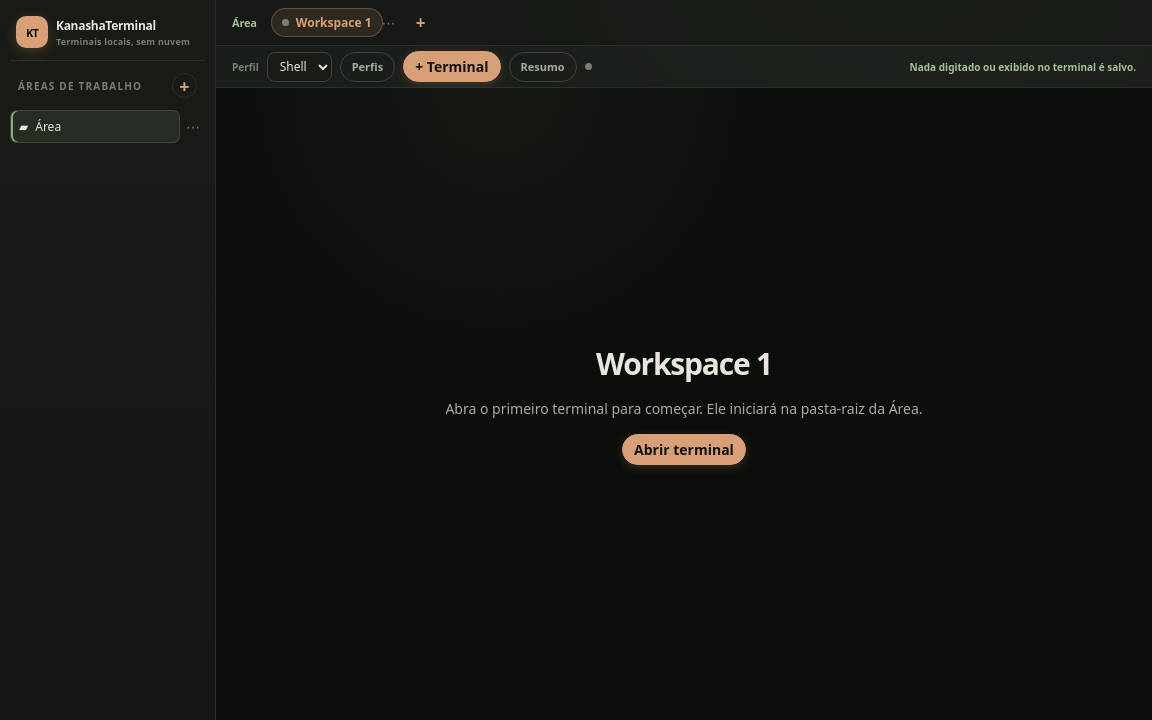
Test: KanashaTerminal › cria um workspace pelo diálogo interno
The width and height of the screenshot is (1152, 720).
Click the button named "Criar novo workspace" at (421, 22), box x1=406 y1=8 x2=436 y2=37
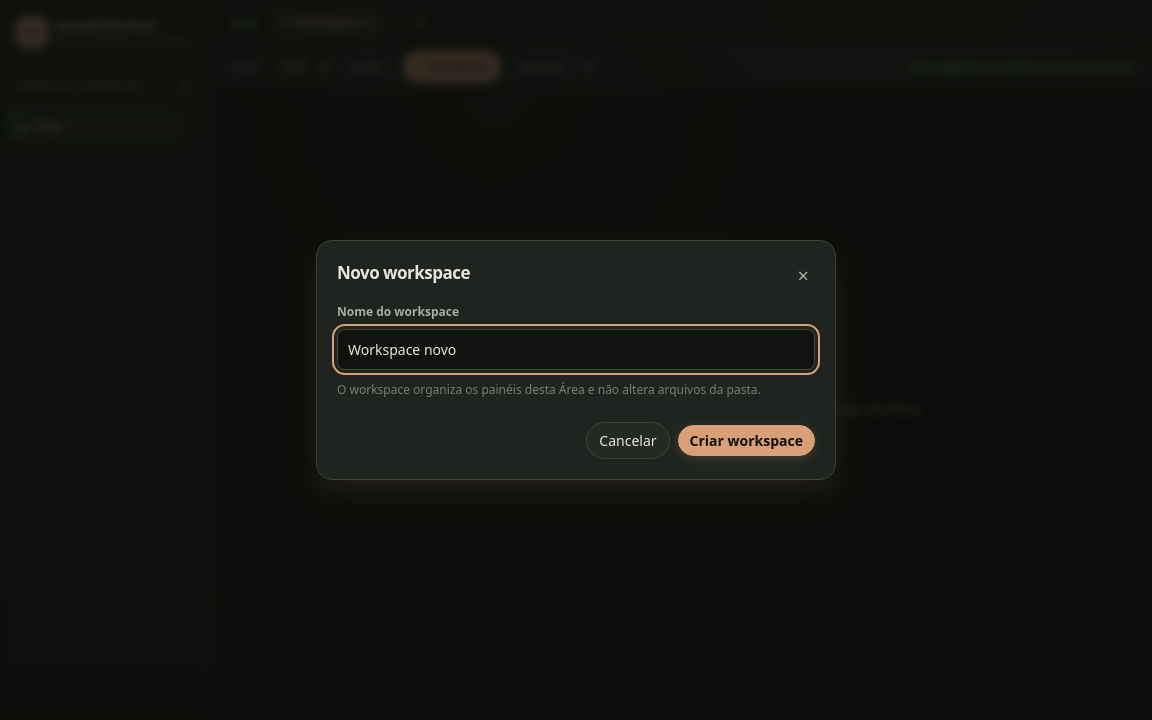
Check: the dialog "Novo workspace" is shown, box x1=316 y1=240 x2=836 y2=480
Check: the field labelled "Nome do workspace" holds "Workspace novo"
Replace the text in the field labelled "Nome do workspace" with "Observabilidade" at (576, 350), box x1=337 y1=329 x2=815 y2=370
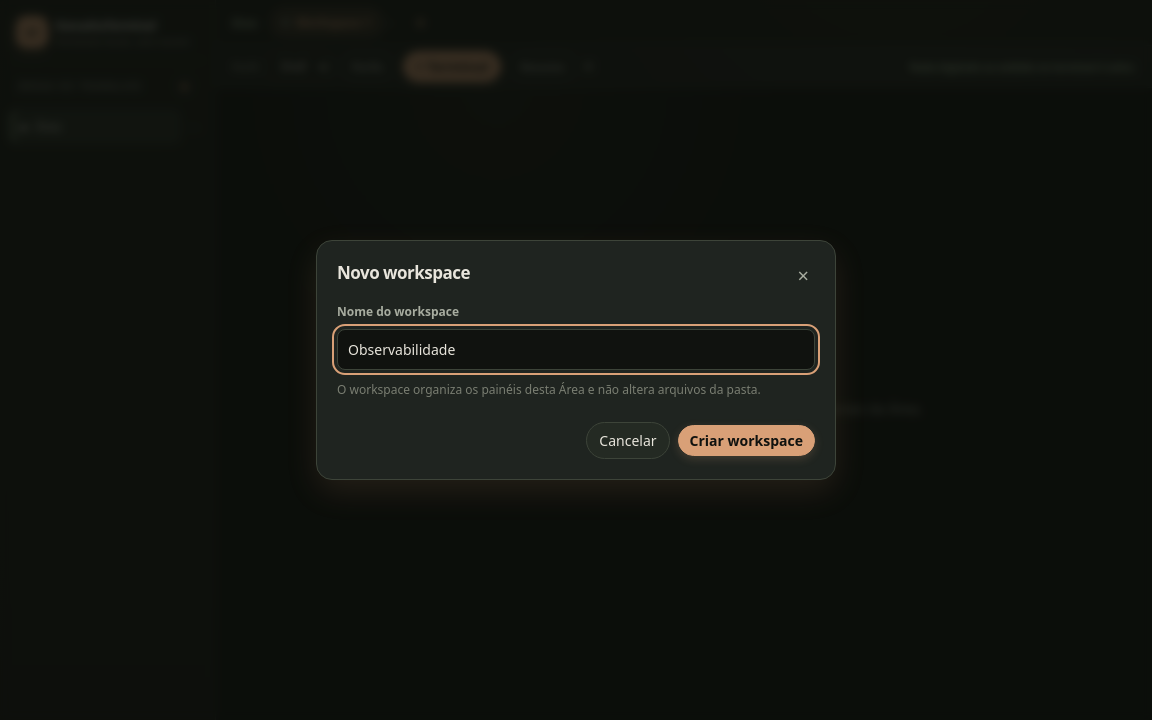
Click the button "Criar workspace" at (746, 440), box x1=678 y1=425 x2=815 y2=456
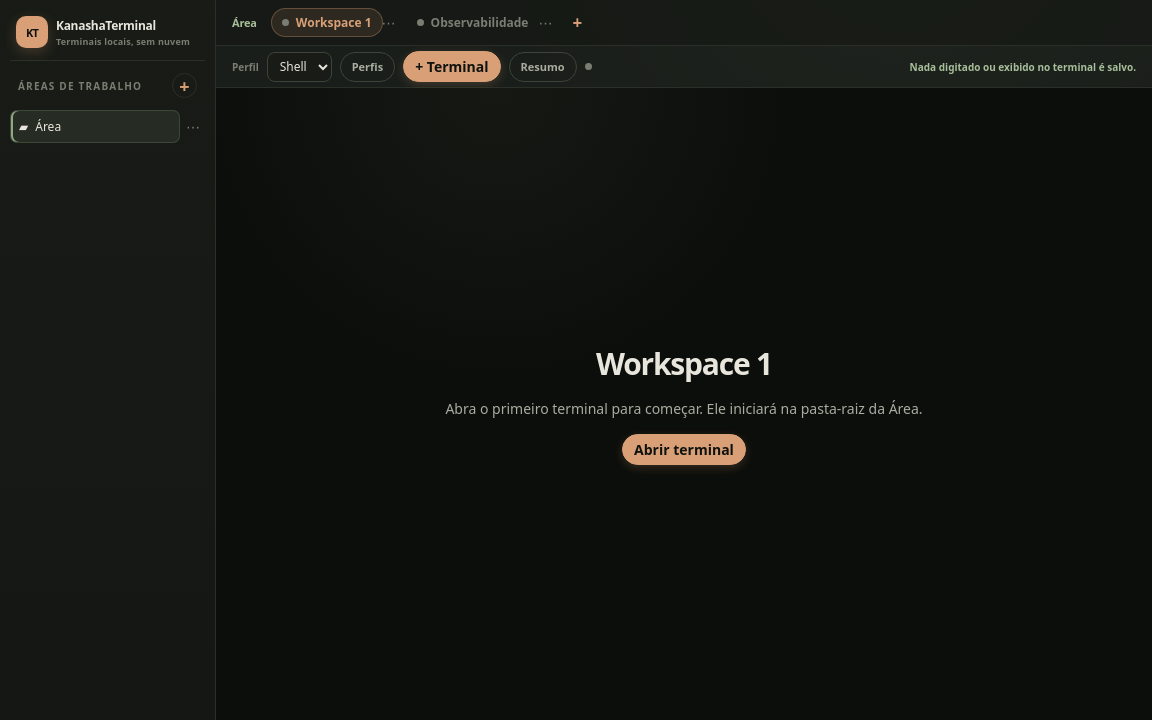
Check: the heading "Novo workspace" is gone
